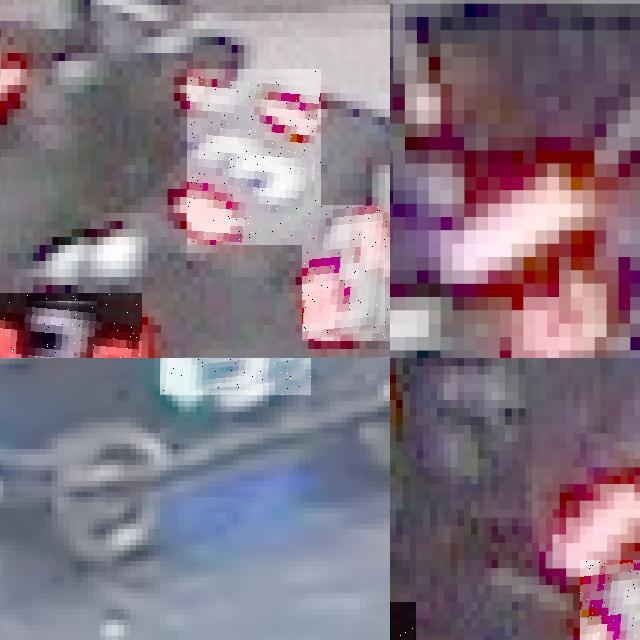B5: (160, 358, 311, 395)
R1: (580, 559, 640, 640)
R3: (187, 69, 321, 245), (301, 205, 390, 341), (0, 293, 142, 358)
